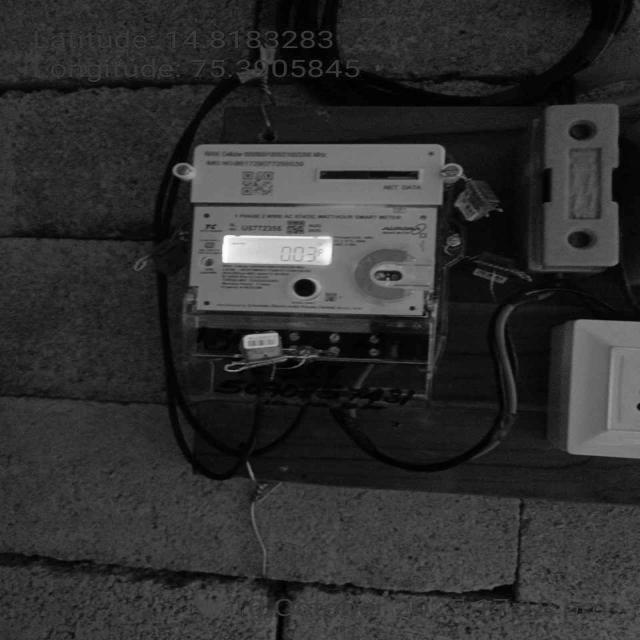meter: (189, 147, 441, 318)
